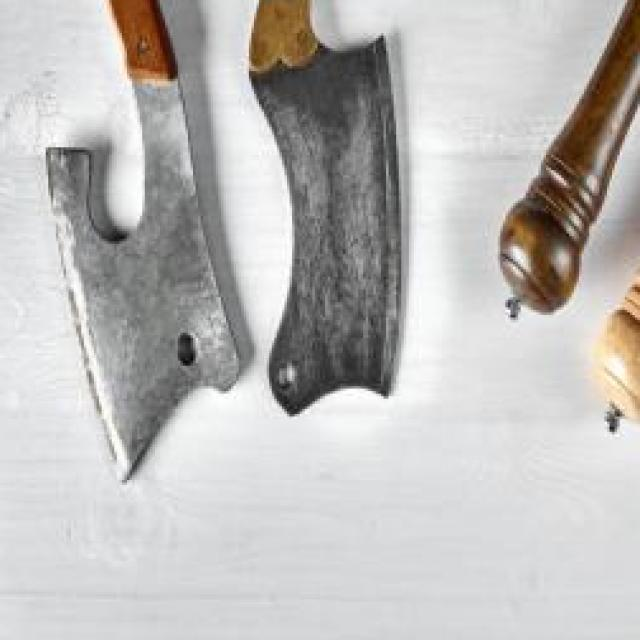knife: (40, 0, 252, 483), (234, 0, 406, 422)
